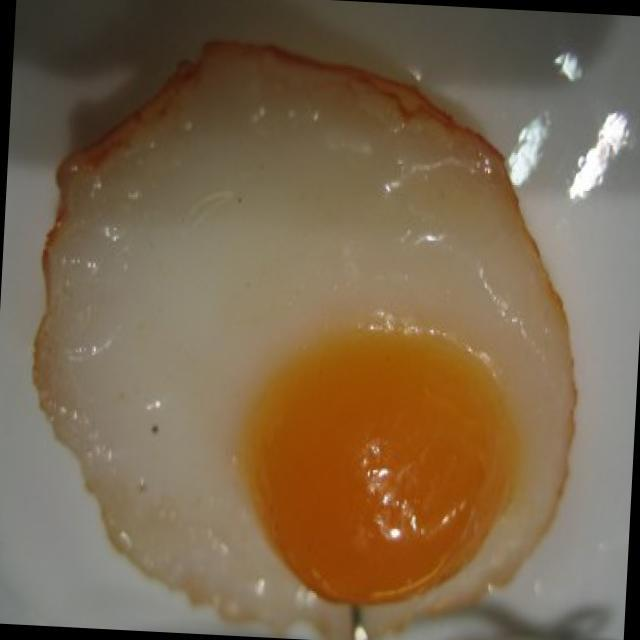Egg: (7, 17, 609, 640)
